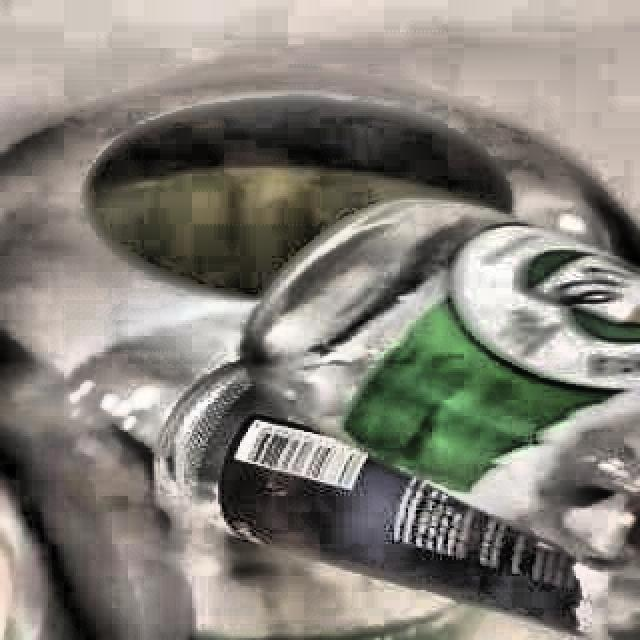glass: (221, 201, 640, 630)
